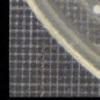white: (90, 2, 100, 16)
